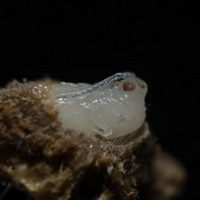insect: (0, 72, 185, 199)
